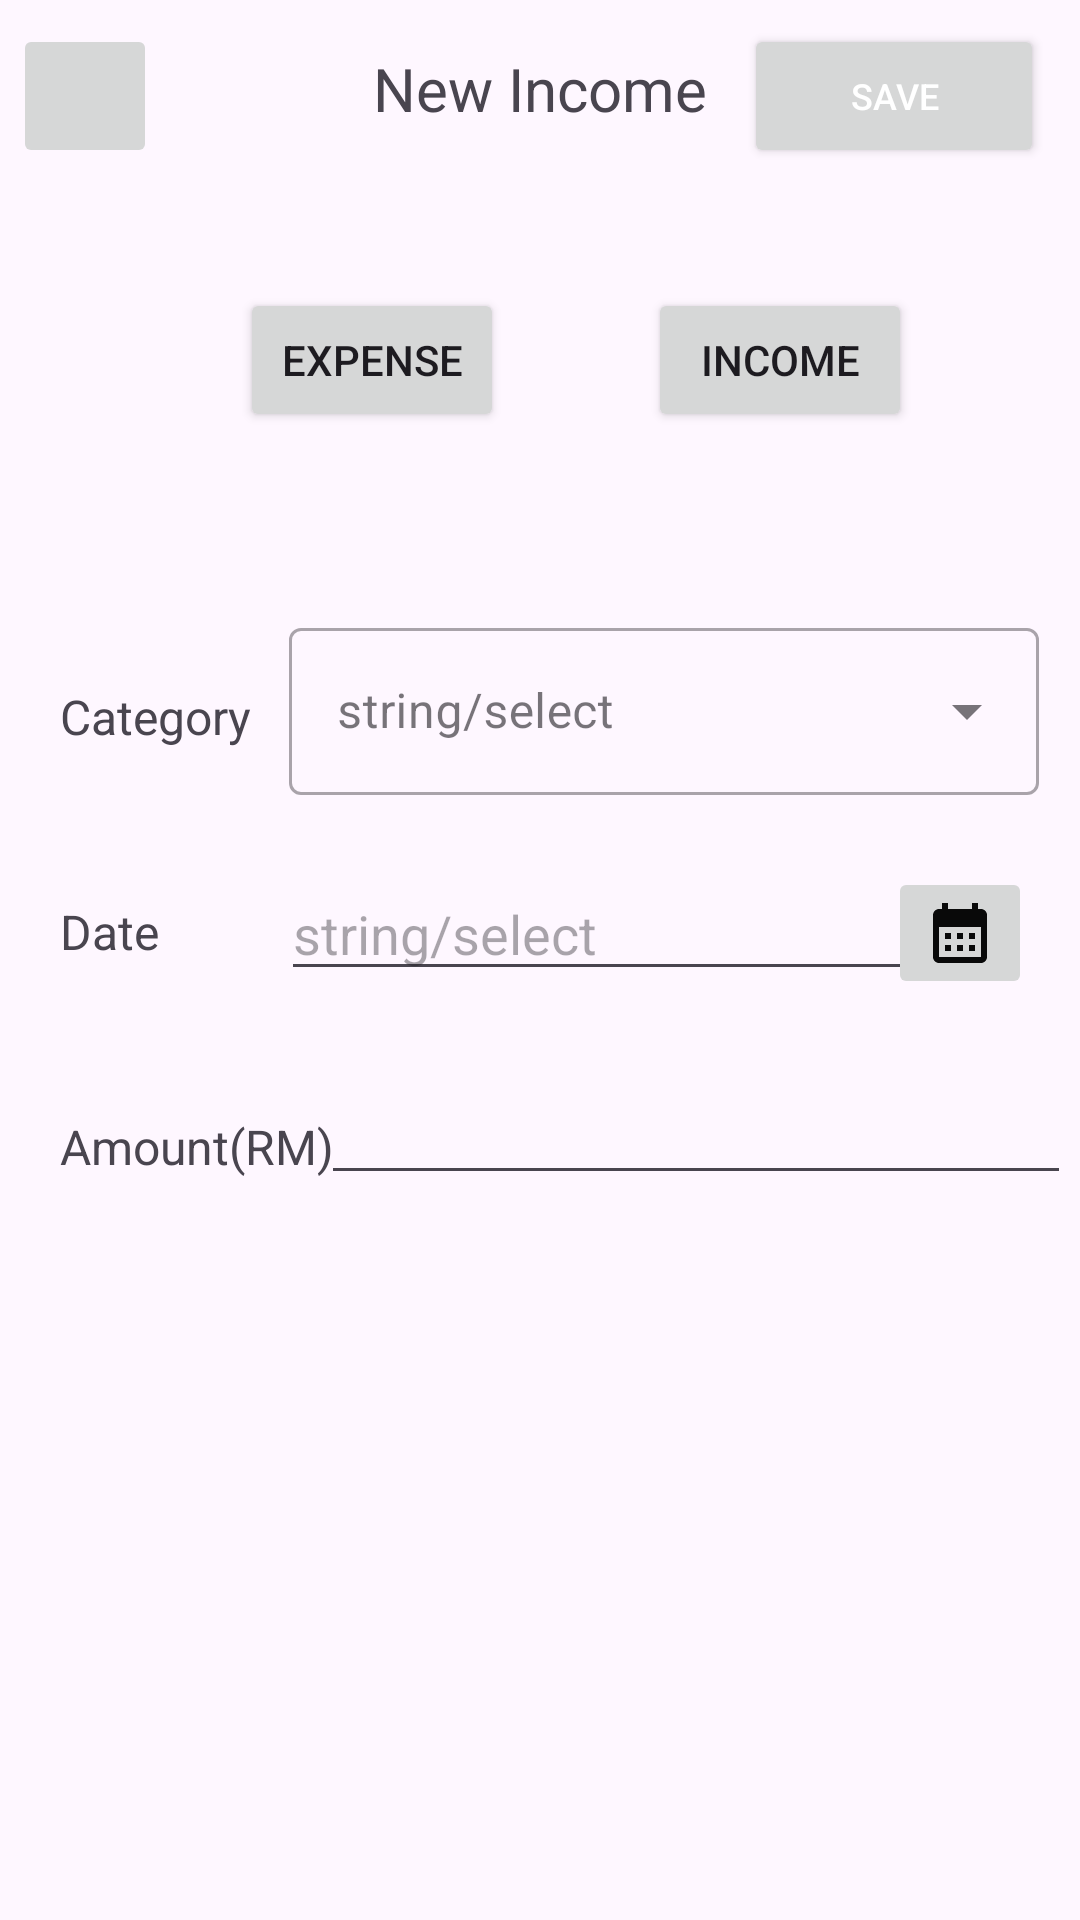

Locate icon controls on the screen. Image size 1080px×1920px, boxes as (x1, y1, x2, y2).
calendar month: (888, 885, 1020, 981)
